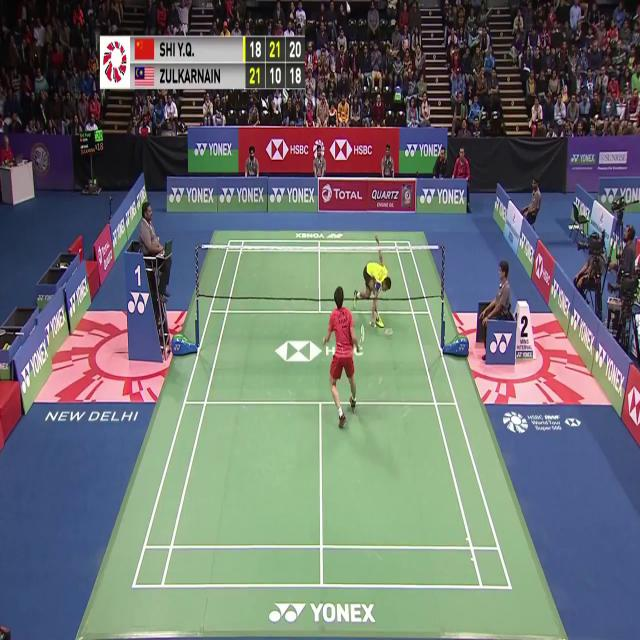Shuttlecock: (344, 0, 351, 12)
